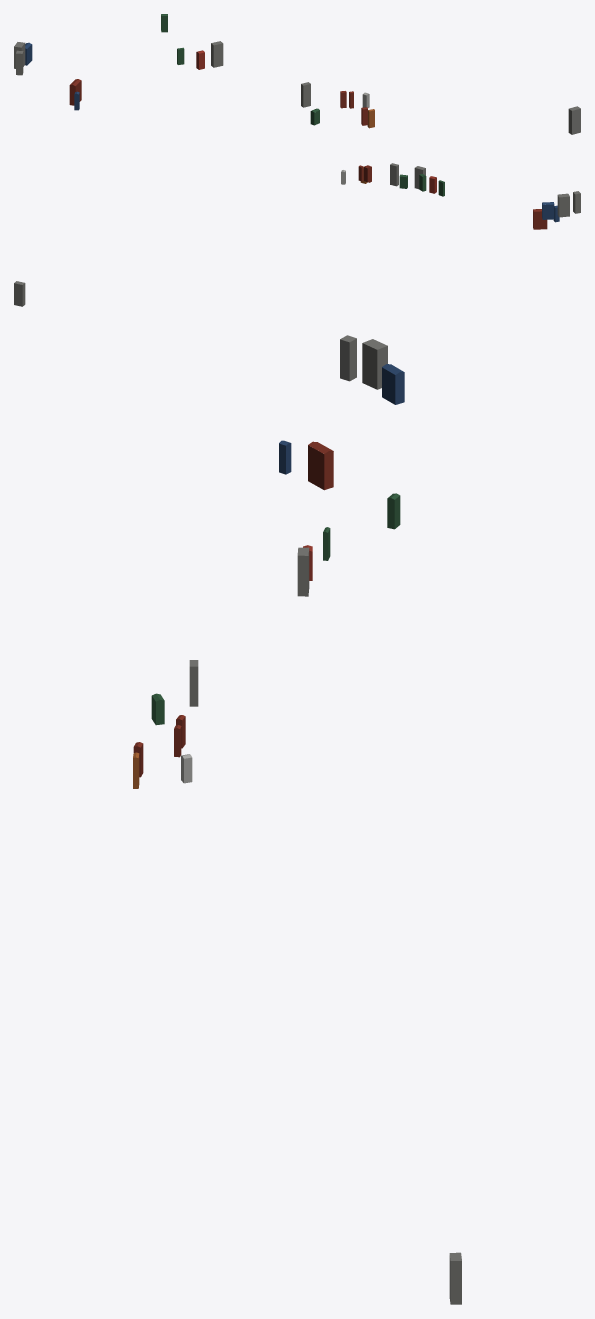
The model's file is near-15-27367-14862.d3cfbee6.glb.
The picture shows the model from 3 angles, top to bottom: view 1: azimuth 30°, elevation 25°; view 2: azimuth 150°, elevation 25°; view 3: azimuth 270°, elevation 25°; orthographic projection. The views are drawn at different scales.
Size of the model in its own units: 663 by 262 by 176.
